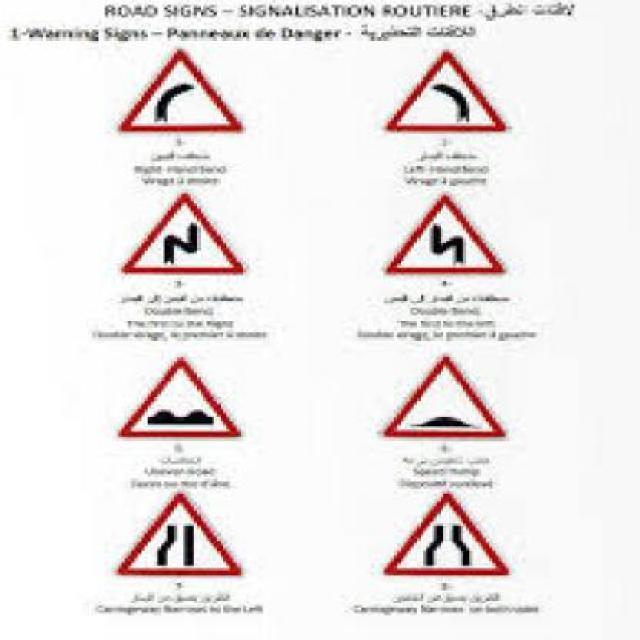warn_double_curve: (109, 186, 263, 285), (374, 188, 522, 281)
